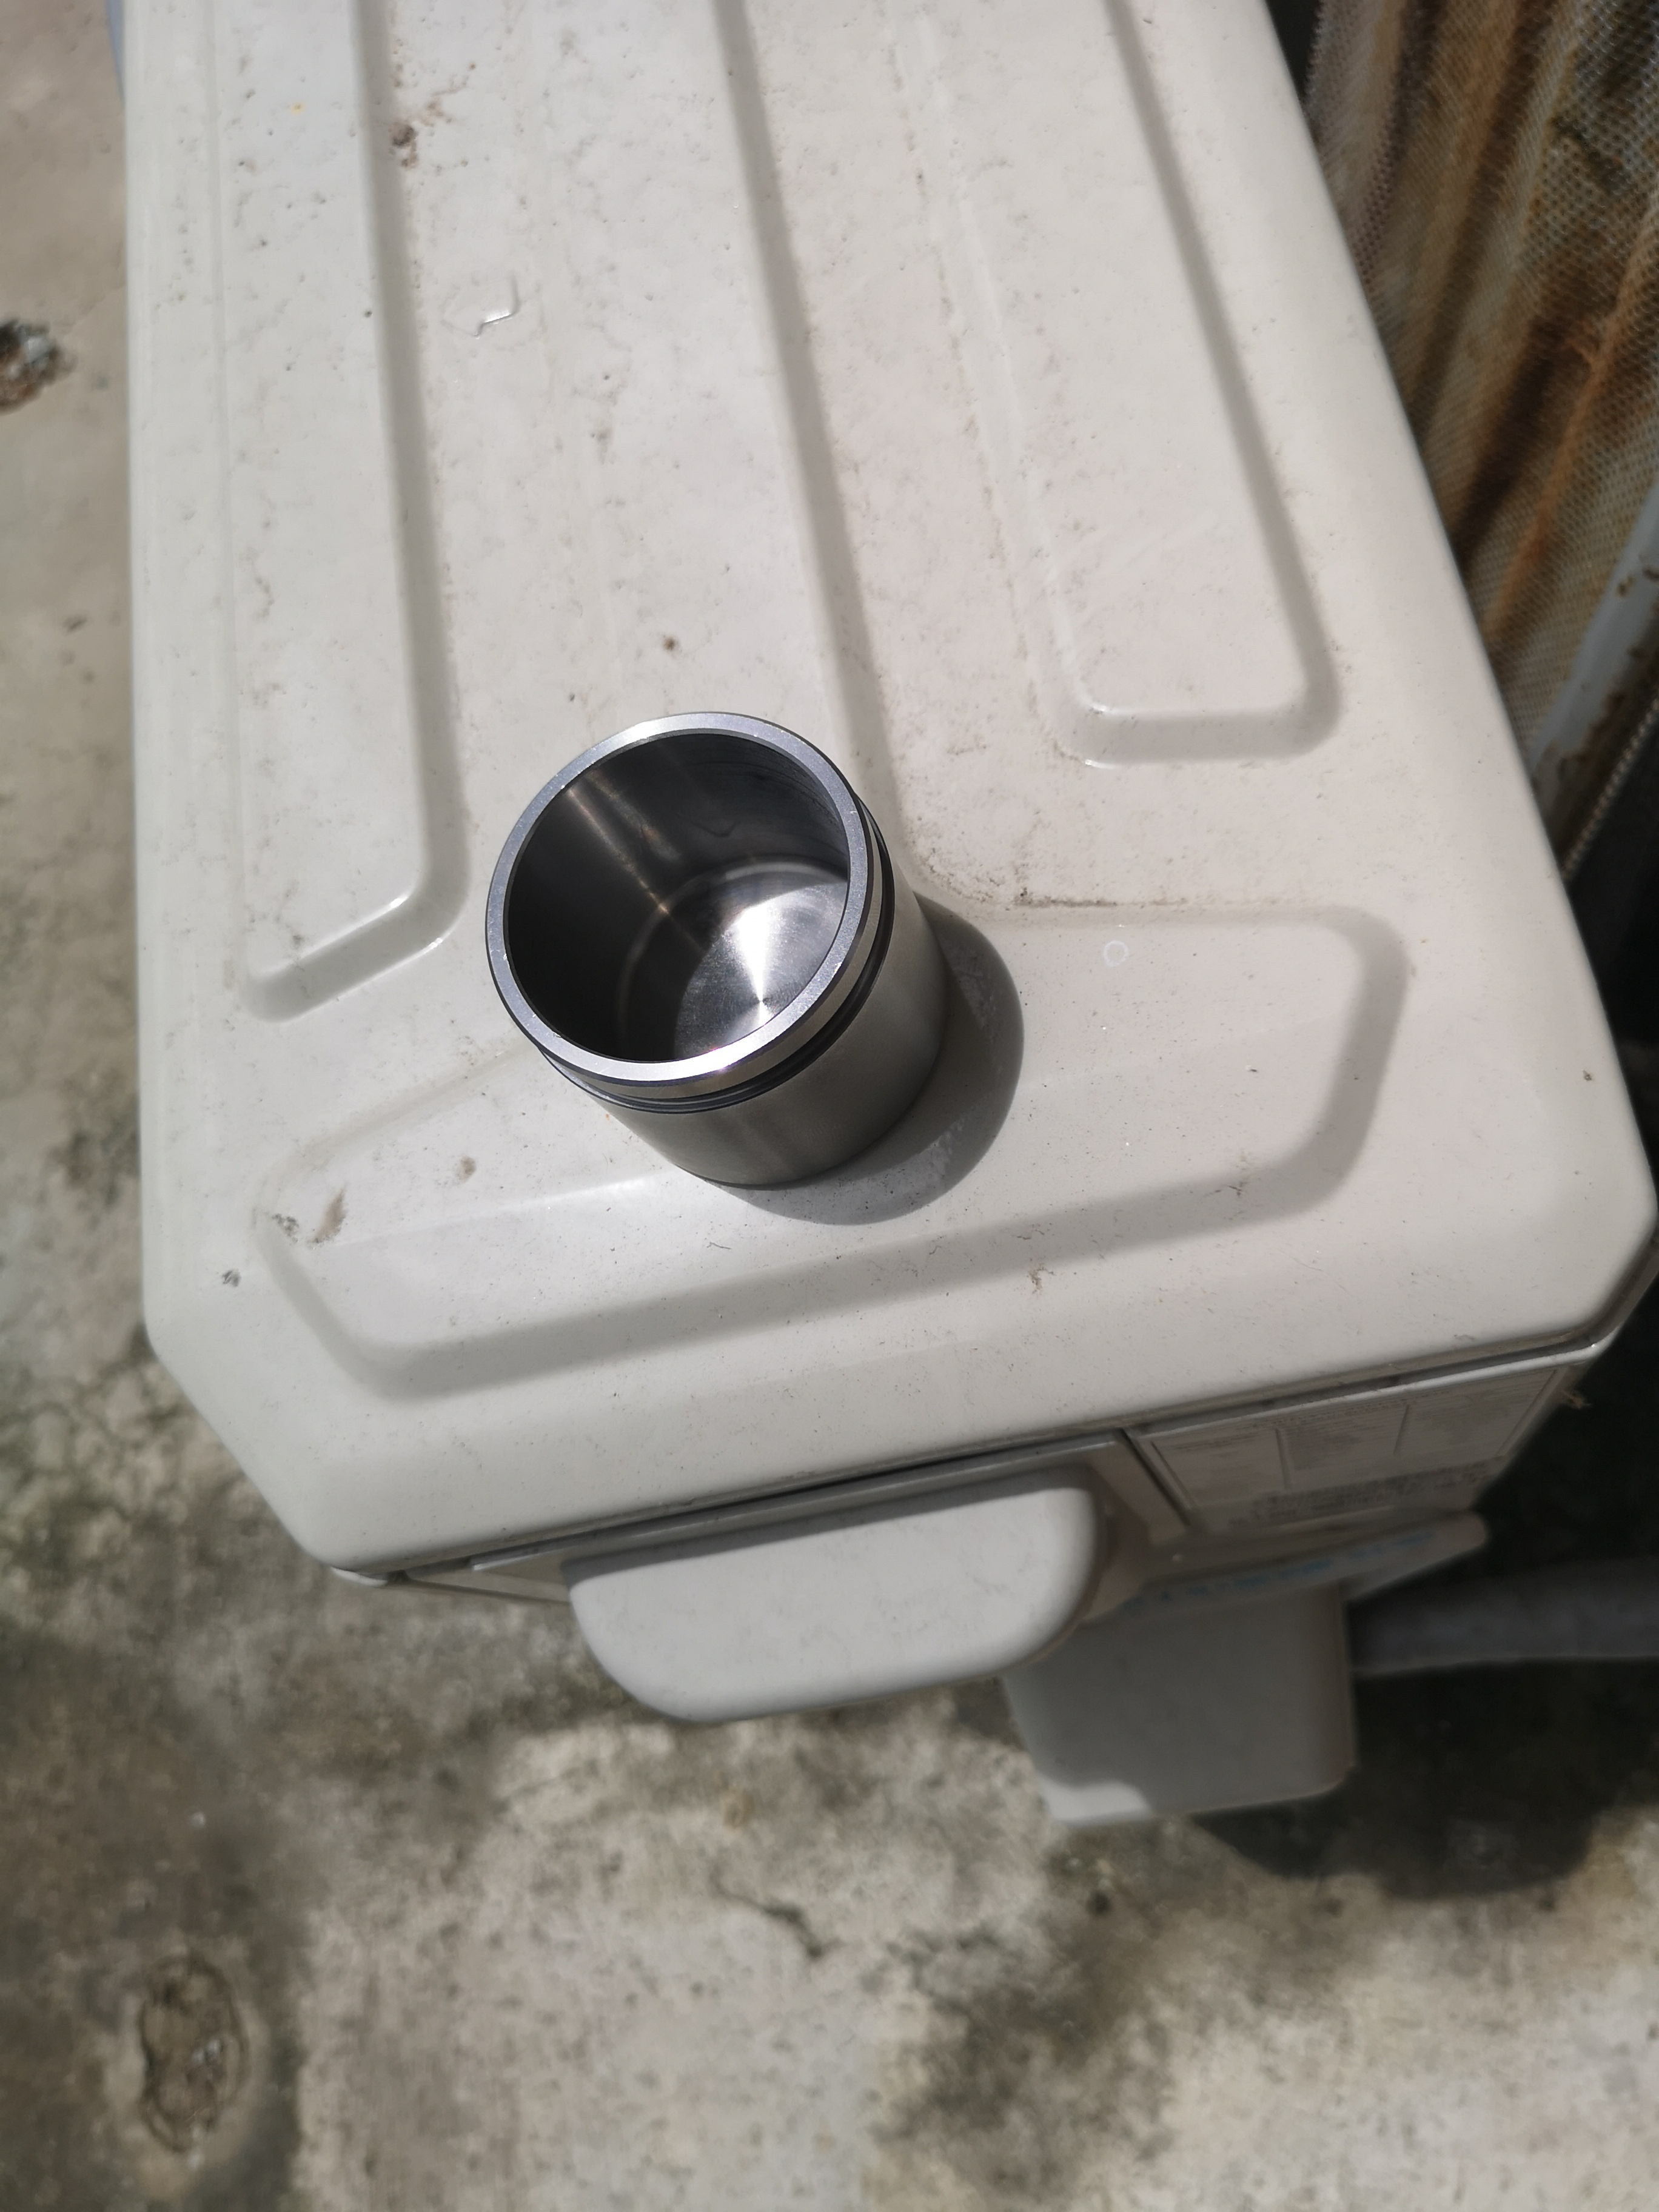ลูกสูบดิสเบรค: (453, 704, 995, 1247)
